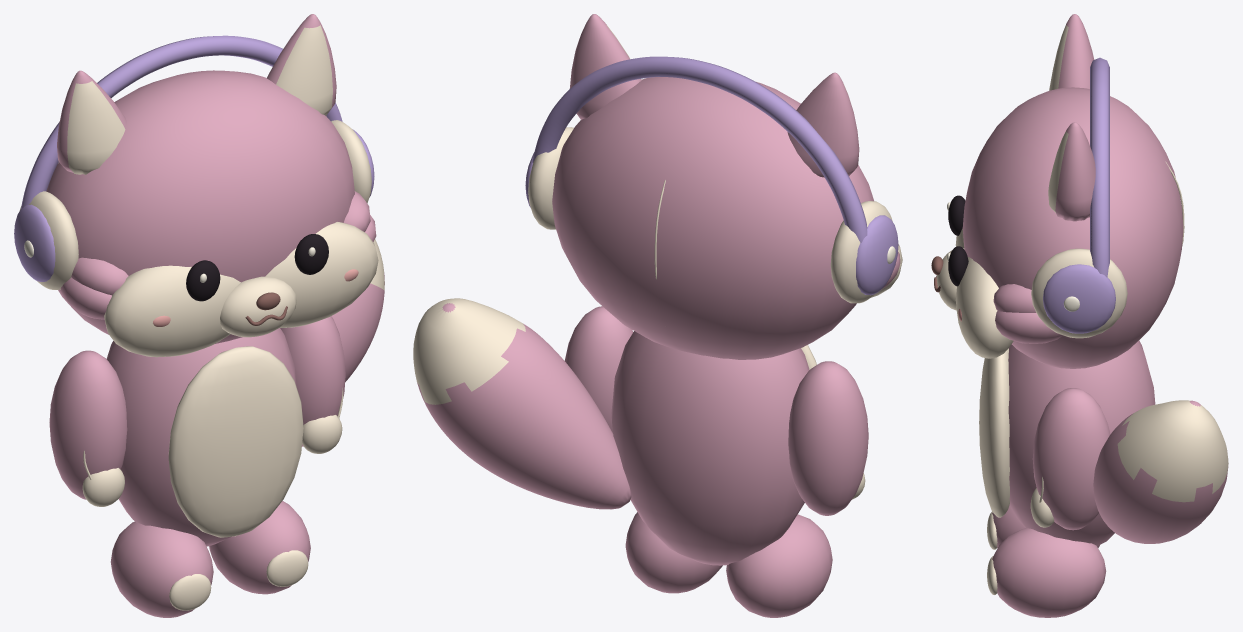
File: rose-fox.glb
The picture shows the model from 3 angles, left to right: view 1: azimuth 30°, elevation 25°; view 2: azimuth 150°, elevation 25°; view 3: azimuth 270°, elevation 25°; orthographic projection. The views are drawn at different scales.
Parts seen in each view (by area): view 1: HeadSurface, BodySurface, LeftArmSurface, LeftFootSurface, RightArmSurface, RightFootSurface, Swept tail, LeftEyeSurface, RightEyeSurface; view 2: HeadSurface, BodySurface, Swept tail, LeftArmSurface, LeftFootSurface, RightArmSurface, RightFootSurface; view 3: HeadSurface, Swept tail, BodySurface, RightArmSurface, RightFootSurface, LeftFootSurface, RightEyeSurface, LeftEyeSurface.
Part boxes in pixels (x1,y1,x2,y2): HeadSurface: (14, 14, 378, 357); BodySurface: (106, 328, 303, 546); LeftArmSurface: (49, 350, 127, 506); LeftFootSurface: (110, 521, 213, 617); RightArmSurface: (280, 316, 345, 453); RightFootSurface: (209, 501, 310, 594); Swept tail: (331, 239, 384, 381); LeftEyeSurface: (186, 260, 220, 301); RightEyeSurface: (294, 234, 328, 274); HeadSurface: (525, 14, 902, 359); BodySurface: (611, 331, 816, 565); Swept tail: (413, 298, 631, 509); LeftArmSurface: (788, 361, 868, 515); LeftFootSurface: (726, 514, 832, 617); RightArmSurface: (564, 306, 633, 432); RightFootSurface: (625, 512, 722, 593); HeadSurface: (931, 14, 1184, 368); Swept tail: (1093, 400, 1228, 543); BodySurface: (979, 340, 1155, 545); RightArmSurface: (1030, 388, 1110, 530); RightFootSurface: (987, 527, 1106, 617); LeftFootSurface: (987, 505, 1099, 549); RightEyeSurface: (947, 246, 968, 286); LeftEyeSurface: (947, 195, 965, 235).
Bounding box in the file's own units: 1.41 × 1.83 × 0.9414.
